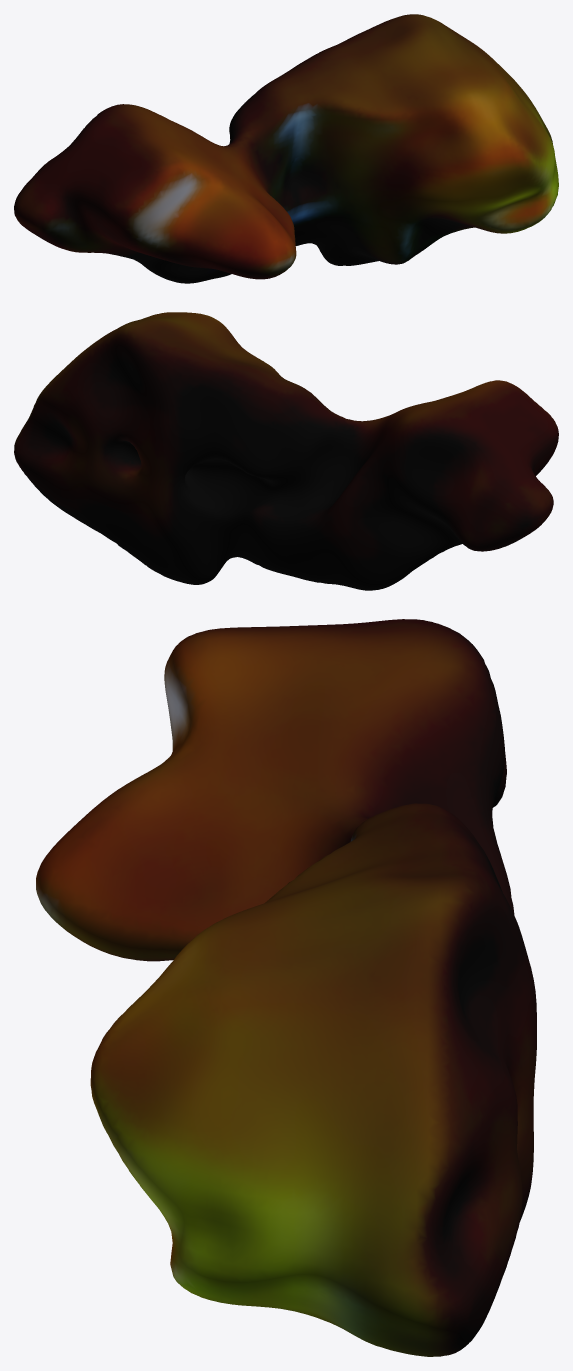
Rendered from blocks.glb.
3 views of the same model, one above another, from view 1: azimuth 30°, elevation 25°; view 2: azimuth 150°, elevation 25°; view 3: azimuth 270°, elevation 25° (orthographic). The views are drawn at different scales.
Size of the model in its own units: 0.9996 by 0.4311 by 0.4116.
